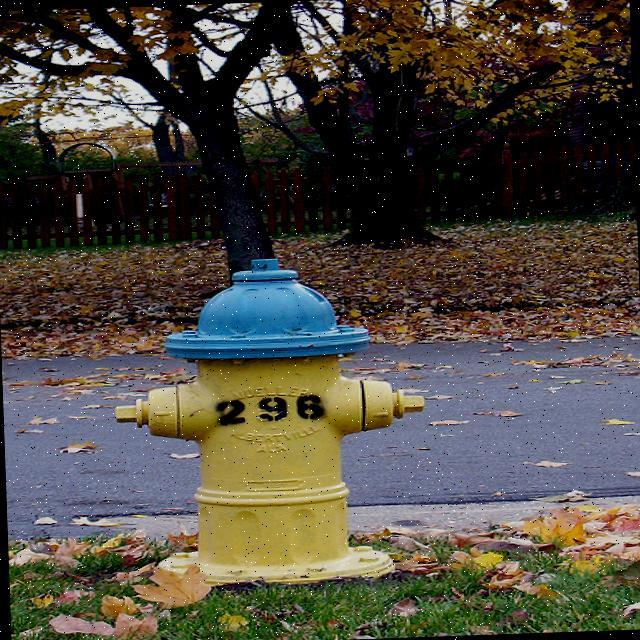fire_hydrant: (110, 254, 430, 590)
